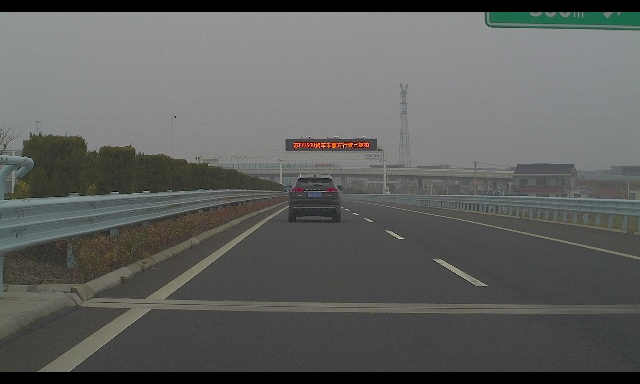car: (286, 174, 343, 222)
